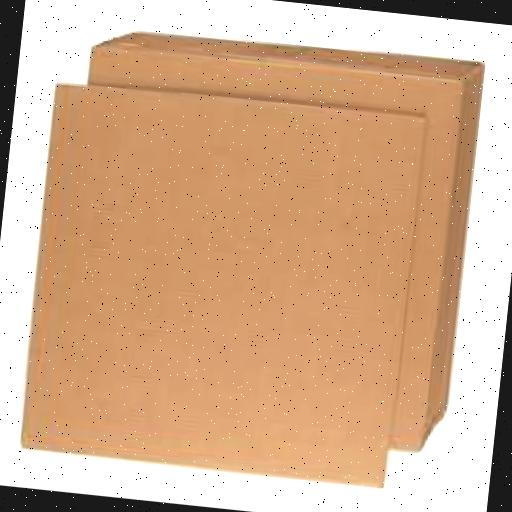cardboard: (45, 24, 481, 457), (14, 78, 427, 493)
